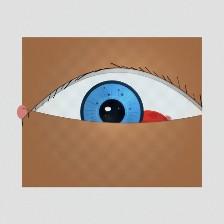hemorrhage_spot: (118, 101, 177, 148)
